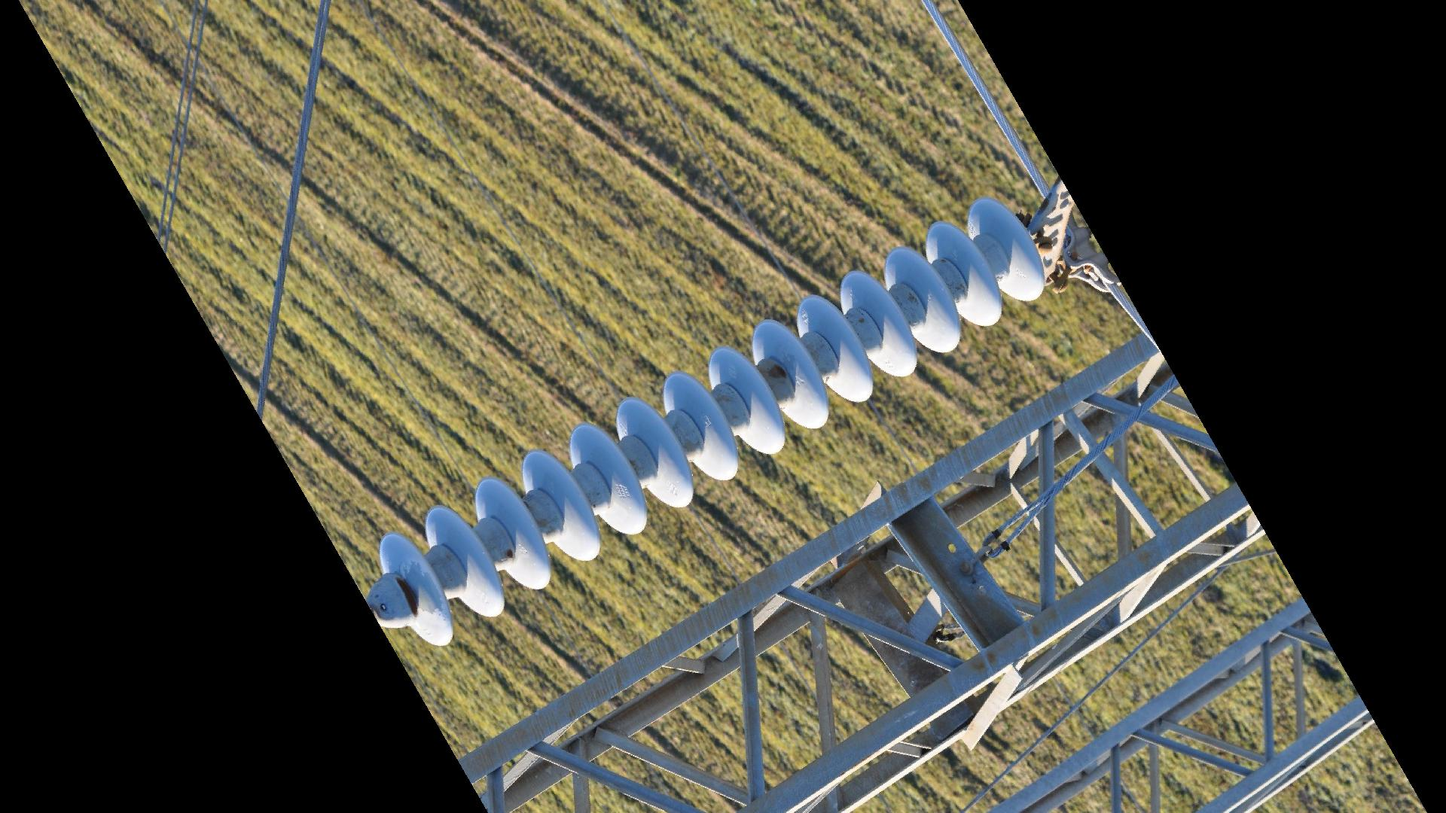insulator: (371, 190, 1054, 653)
insulator_flashover: (400, 559, 446, 616)
